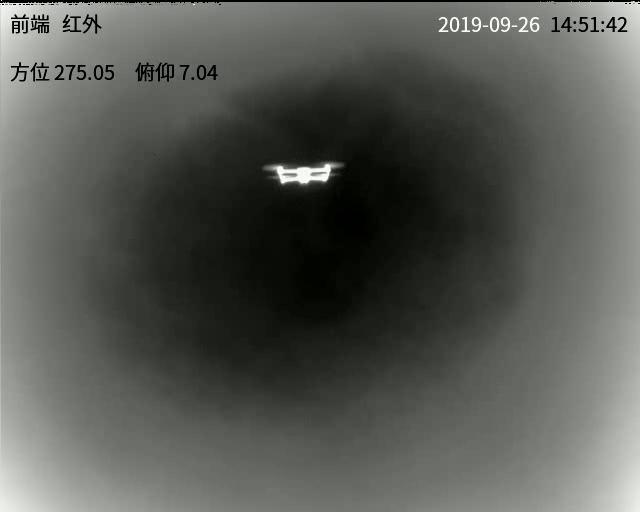DRONE: (265, 161, 343, 185)
